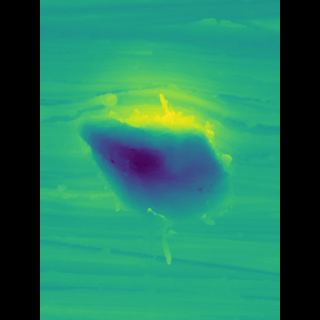Loch: (92, 87, 224, 231)
